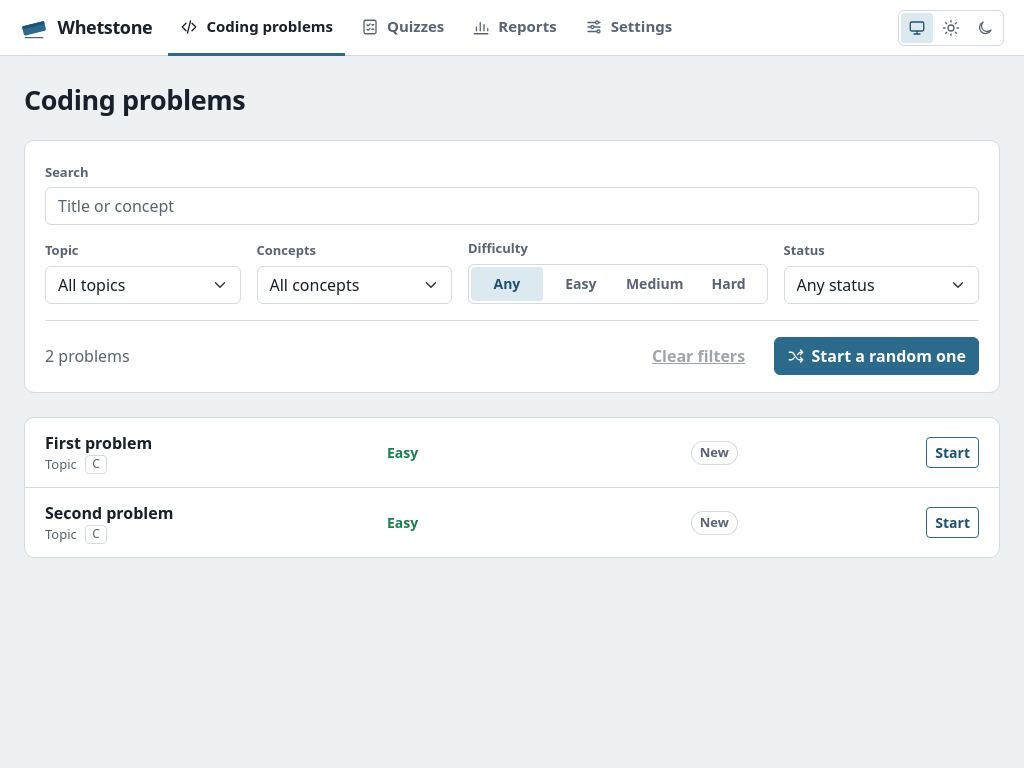
App › returns to the problem list from the menu, and Home from the logo
Click the button with aria-label "Start First problem". click: (953, 453)
box: [926,437,979,468]
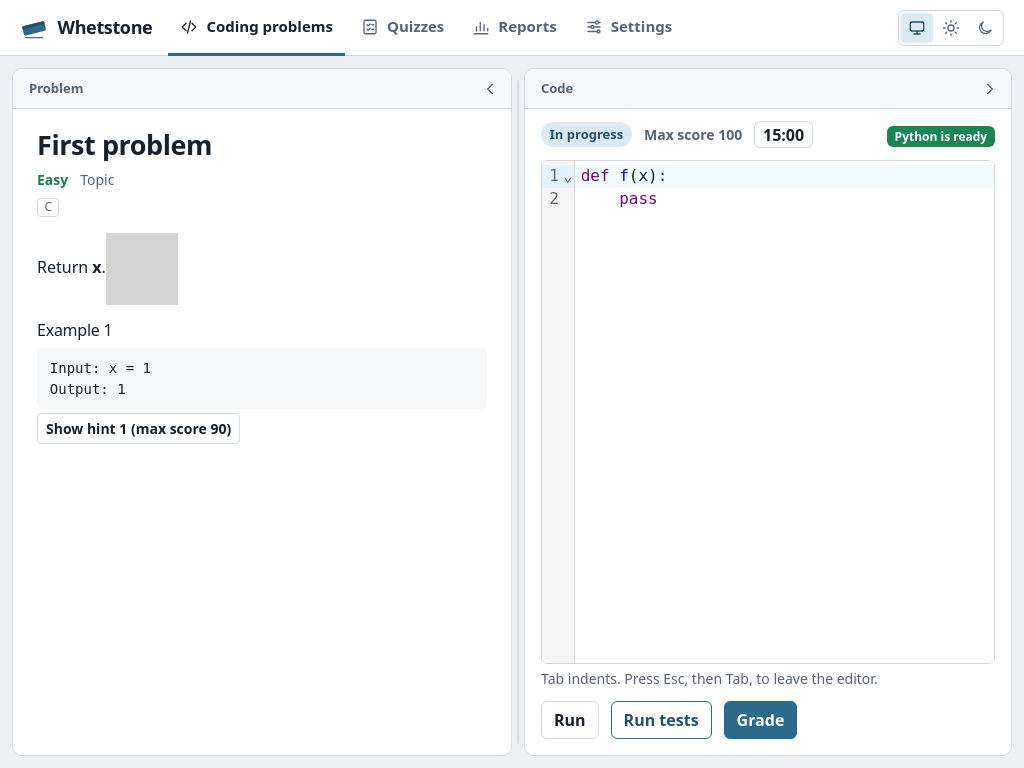
Click the link "Coding problems". click: (257, 28)
box: [168,0,345,56]
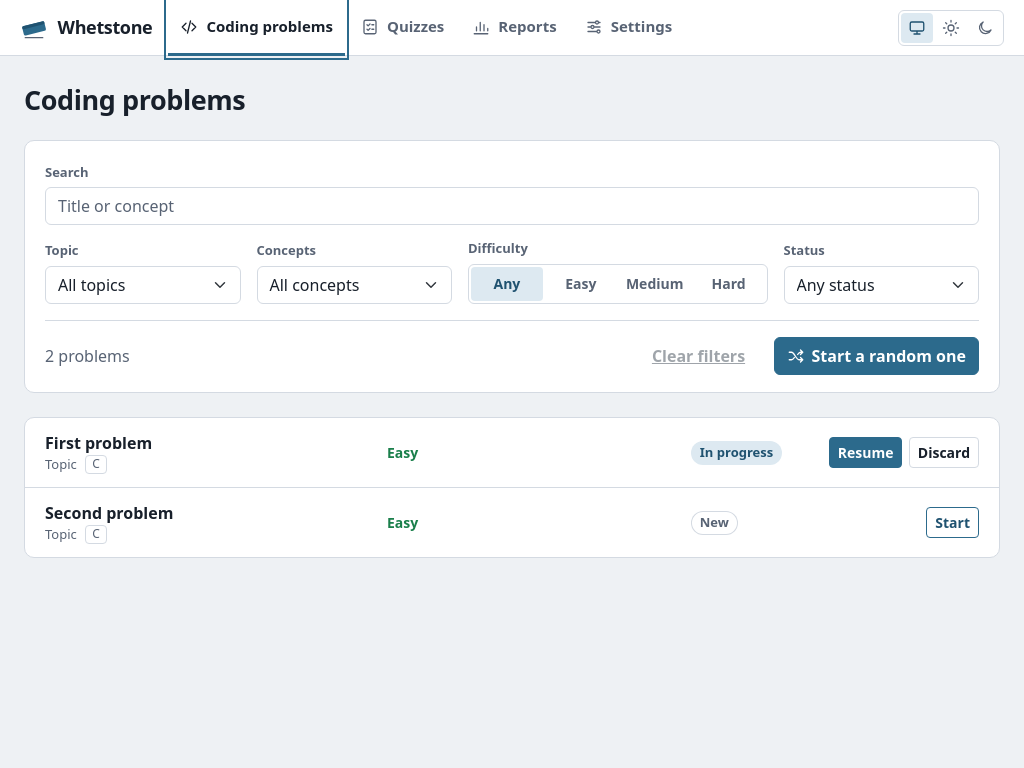
Now the list item "Second problem" is shown, box [25,487,999,557]
Click the link "Whetstone". click: (86, 28)
box: [20,14,152,42]
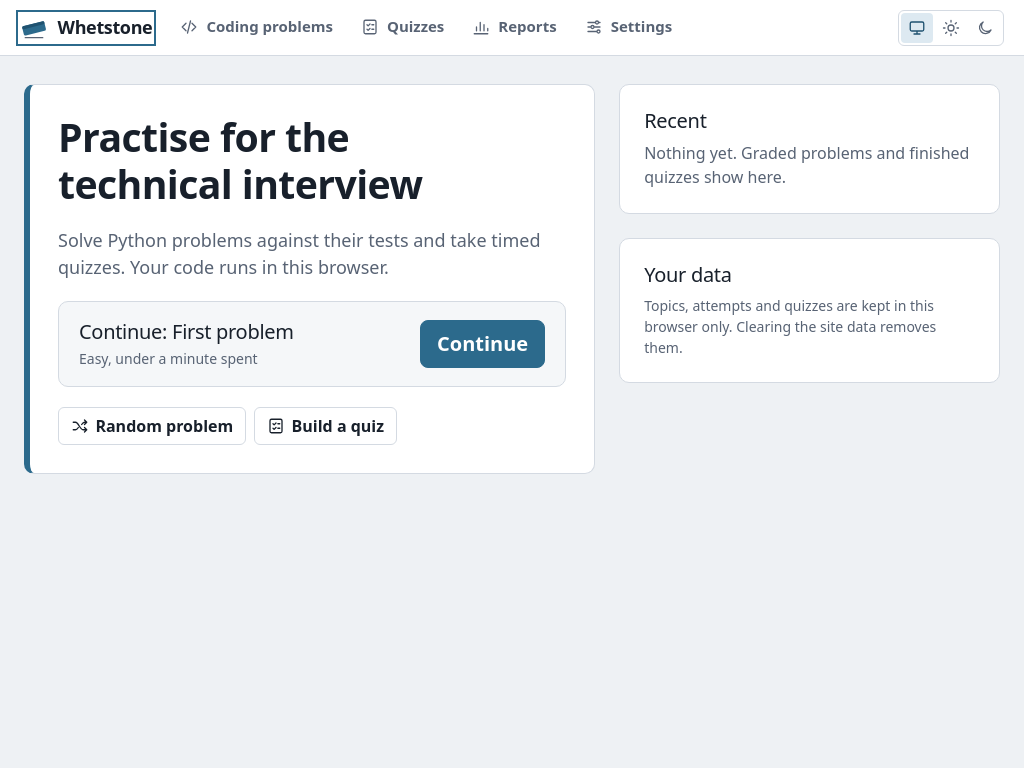
Now the heading "Practise for the technical interview" is shown, box [58,113,462,207]
